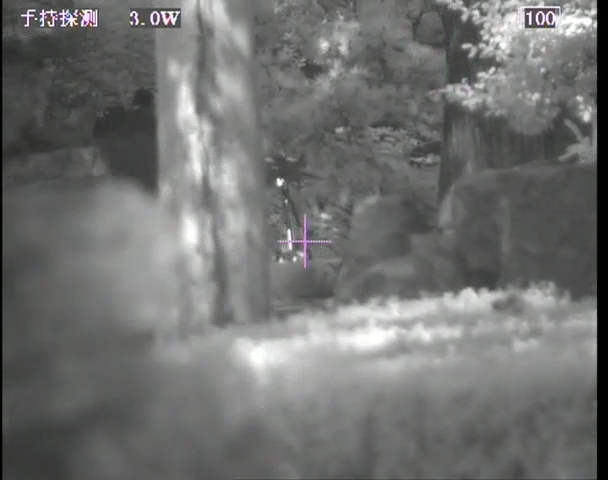my: (274, 175, 288, 190)
